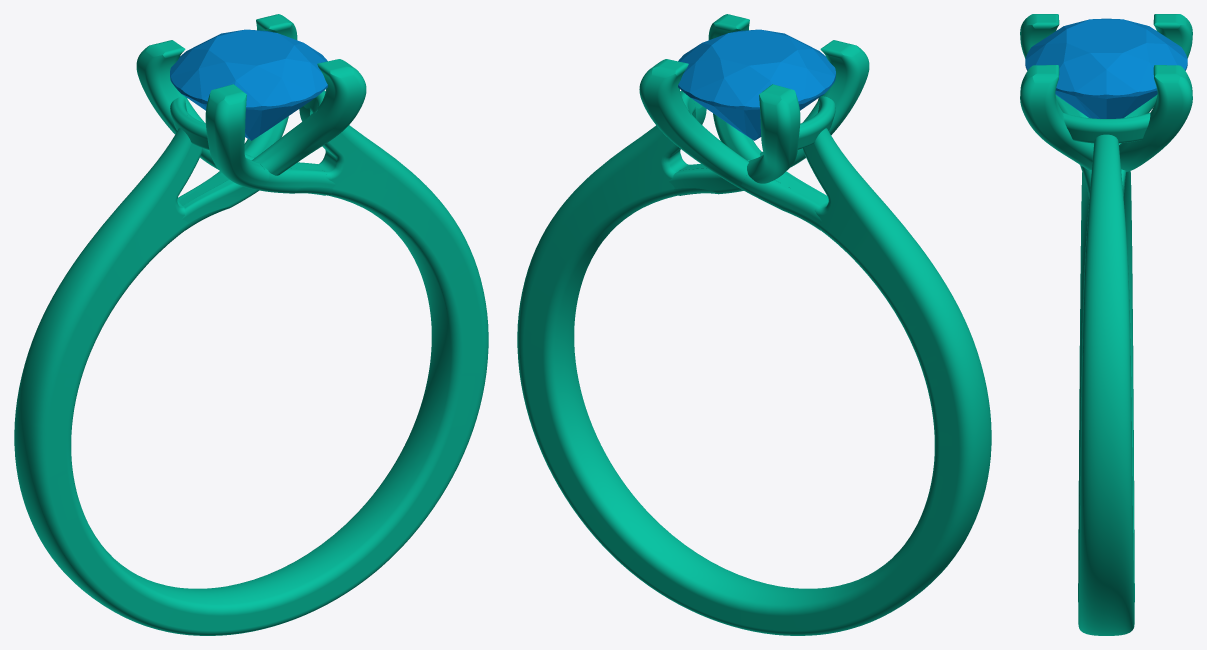
3 renders of one model, left to right at view 1: azimuth 30°, elevation 25°; view 2: azimuth 150°, elevation 25°; view 3: azimuth 270°, elevation 25°, orthographic.
Visible parts, largest first — view 1: VSR-1009(front).3dm, Diamond_Round; view 2: VSR-1009(front).3dm, Diamond_Round; view 3: VSR-1009(front).3dm, Diamond_Round.
Part boxes in pixels (left/top/right/bottom): VSR-1009(front).3dm: left=14, top=14, right=488, bottom=635; Diamond_Round: left=170, top=29, right=327, bottom=140; VSR-1009(front).3dm: left=517, top=14, right=991, bottom=635; Diamond_Round: left=678, top=29, right=835, bottom=140; VSR-1009(front).3dm: left=1020, top=14, right=1192, bottom=635; Diamond_Round: left=1025, top=18, right=1187, bottom=118.
Bounding box in the file's own units: 2.52 × 3 × 0.8185.
